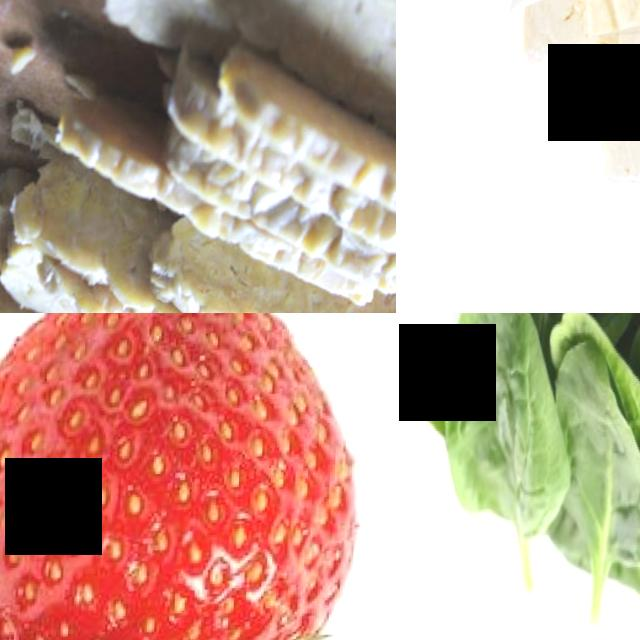spinach: (439, 313, 567, 551), (548, 344, 640, 605)
strawberry: (0, 313, 372, 640)
tempeh: (177, 0, 396, 133), (145, 228, 396, 313), (1, 153, 139, 307)
tofu: (550, 54, 601, 136), (599, 104, 640, 201), (586, 0, 640, 45), (616, 29, 640, 110)
